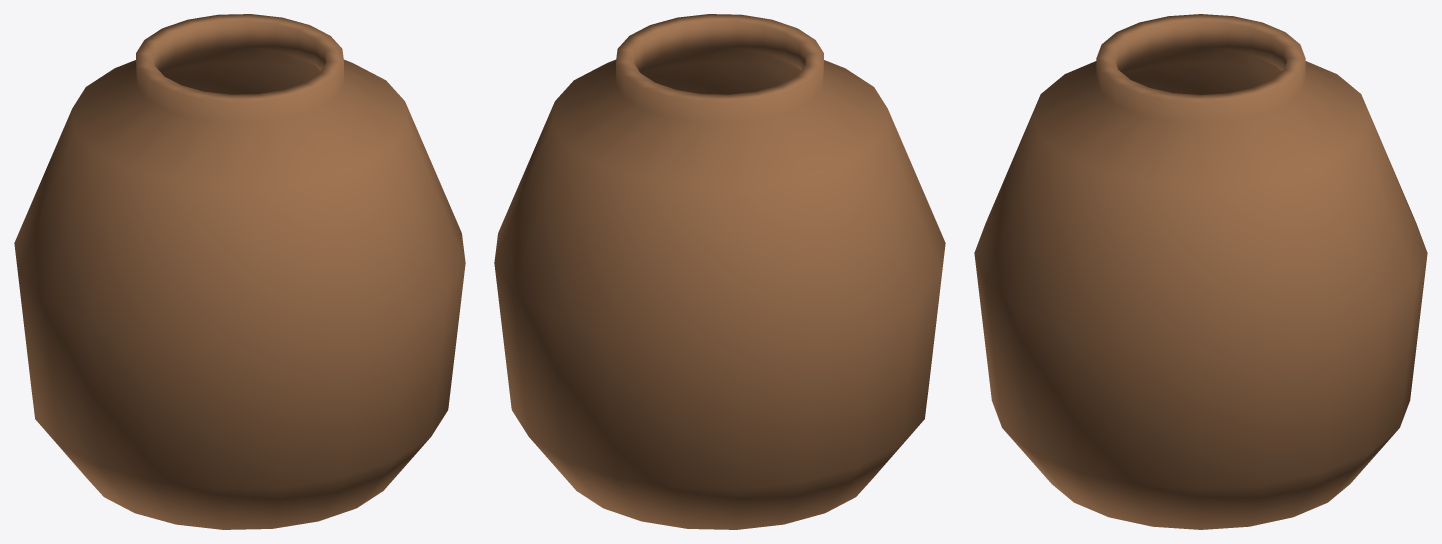
Rendered from water-jar-normal.glb.
3 views of the same model, side by side, from view 1: azimuth 30°, elevation 25°; view 2: azimuth 150°, elevation 25°; view 3: azimuth 270°, elevation 25° (orthographic).
Visible parts, largest first — view 1: water-jar; view 2: water-jar; view 3: water-jar.
Boxes of the visible parts, x1=… form: water-jar: x1=14, y1=14, x2=465, y2=529; water-jar: x1=494, y1=14, x2=945, y2=529; water-jar: x1=974, y1=14, x2=1427, y2=529.
Bounding box in the file's own units: 0.78 × 0.77 × 0.78.
